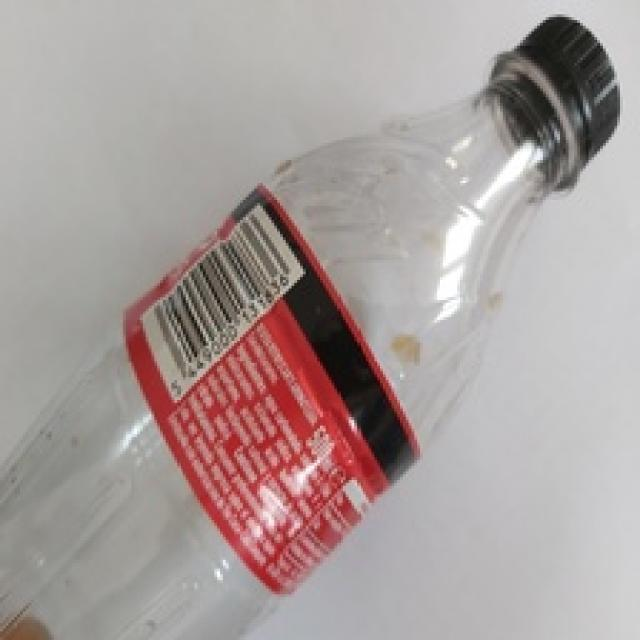Plastic: (0, 13, 623, 640)
